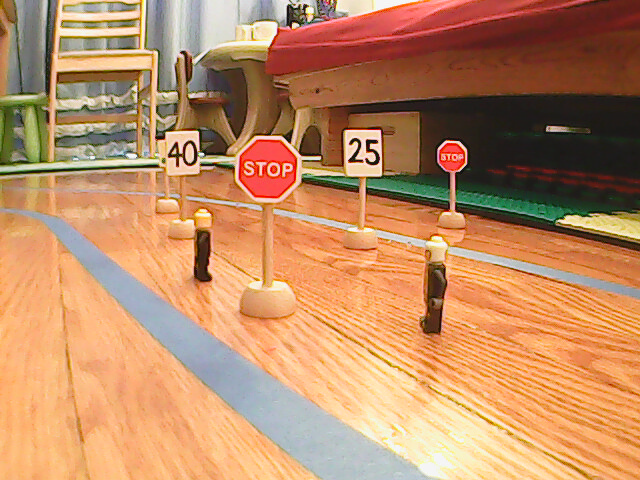Person: (418, 235, 453, 335), (193, 206, 217, 285)
Speed Limit 25: (338, 128, 383, 179)
Speed Limit 40: (164, 128, 202, 179)
Stop Sign: (230, 134, 303, 204), (436, 138, 469, 175)
